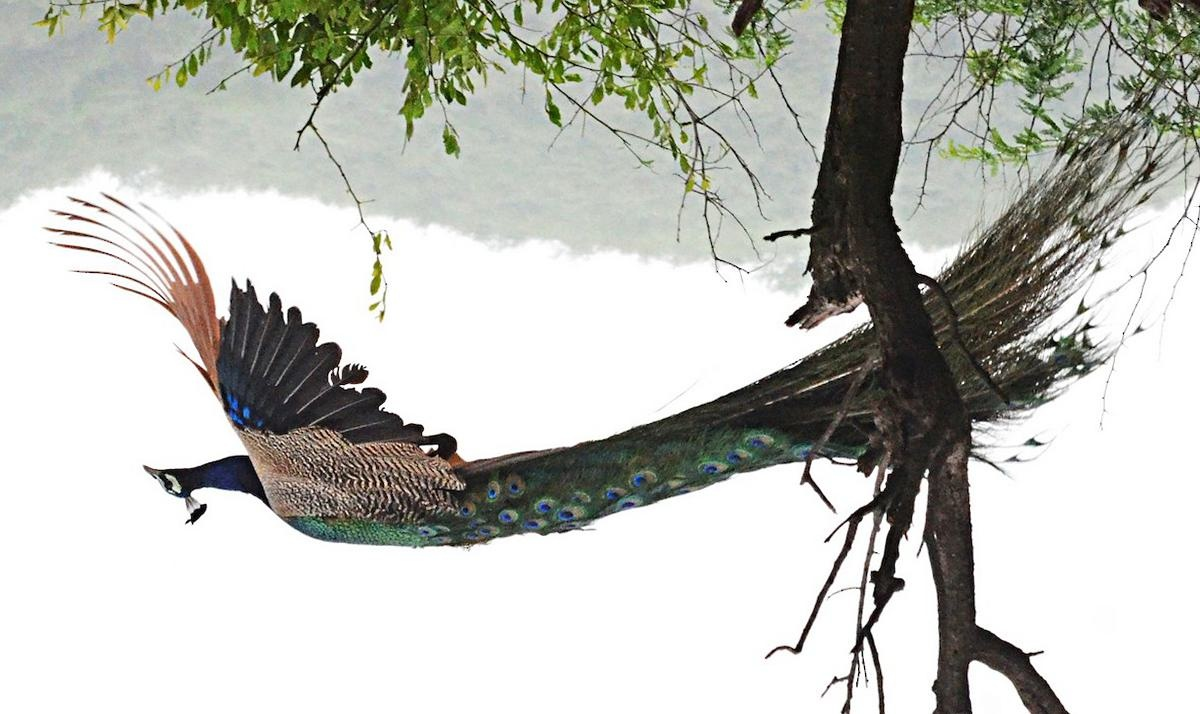peacock: (51, 169, 1133, 574)
